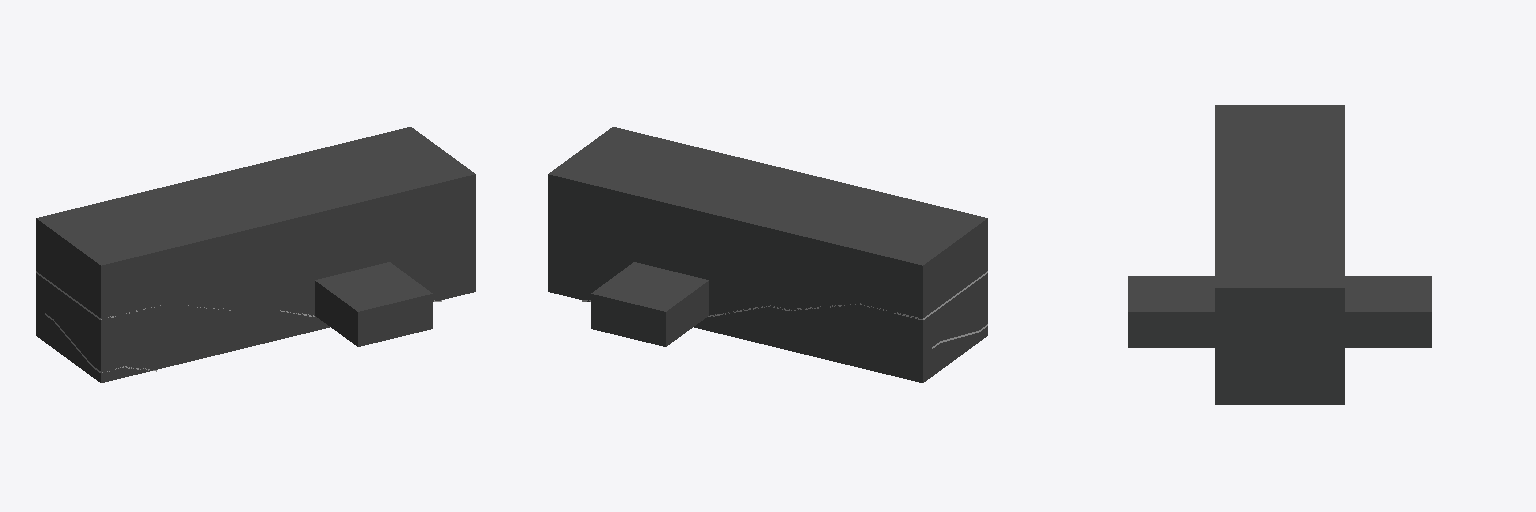
The model's file is pb-MergedObject-59424.obj.
The picture shows the model from 3 angles: view 1: azimuth 30°, elevation 25°; view 2: azimuth 150°, elevation 25°; view 3: azimuth 270°, elevation 25°; orthographic projection.
Parts seen in each view (by area): view 1: pb-MergedObject-59424; view 2: pb-MergedObject-59424; view 3: pb-MergedObject-59424.
Part boxes in pixels (x1,y1,x2,y2): pb-MergedObject-59424: (36, 127, 475, 382); pb-MergedObject-59424: (548, 127, 987, 382); pb-MergedObject-59424: (1128, 105, 1431, 404).
Bounding box in the file's own units: 100 × 30.5 × 70.